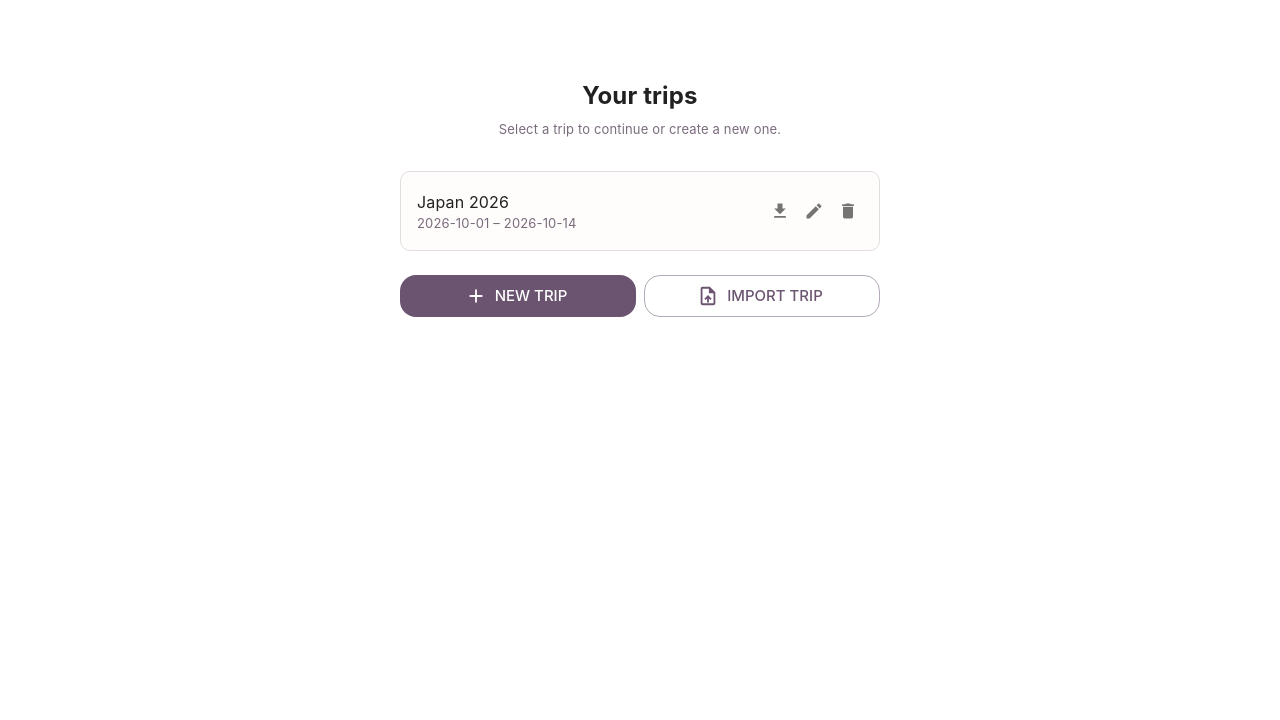
Scenario: TripSelectorScreen — rename dialog › does not save when the name is cleared
Expected: the text "Japan 2026" is shown, 417,192 -> 509,212
Click the button named "Rename Japan 2026": x=814, y=211 799,196 -> 829,226
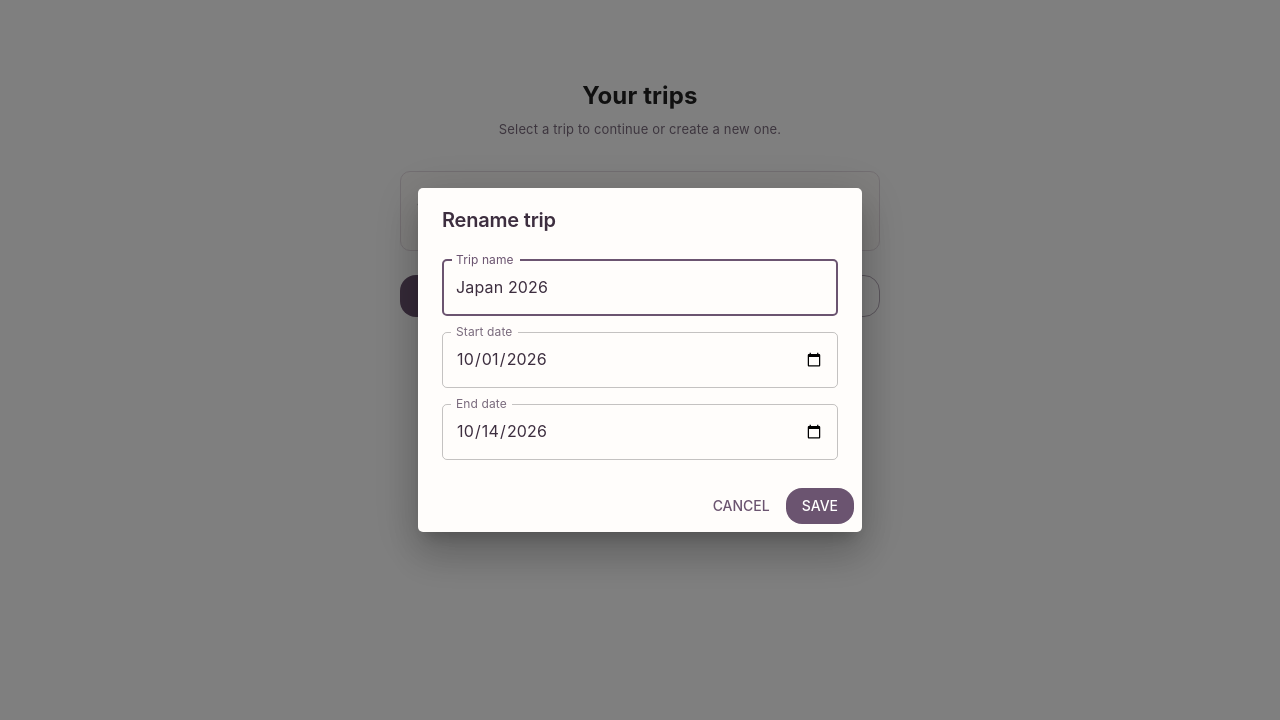
Clear the field named "rename trip name": x=640, y=288 442,260 -> 838,316
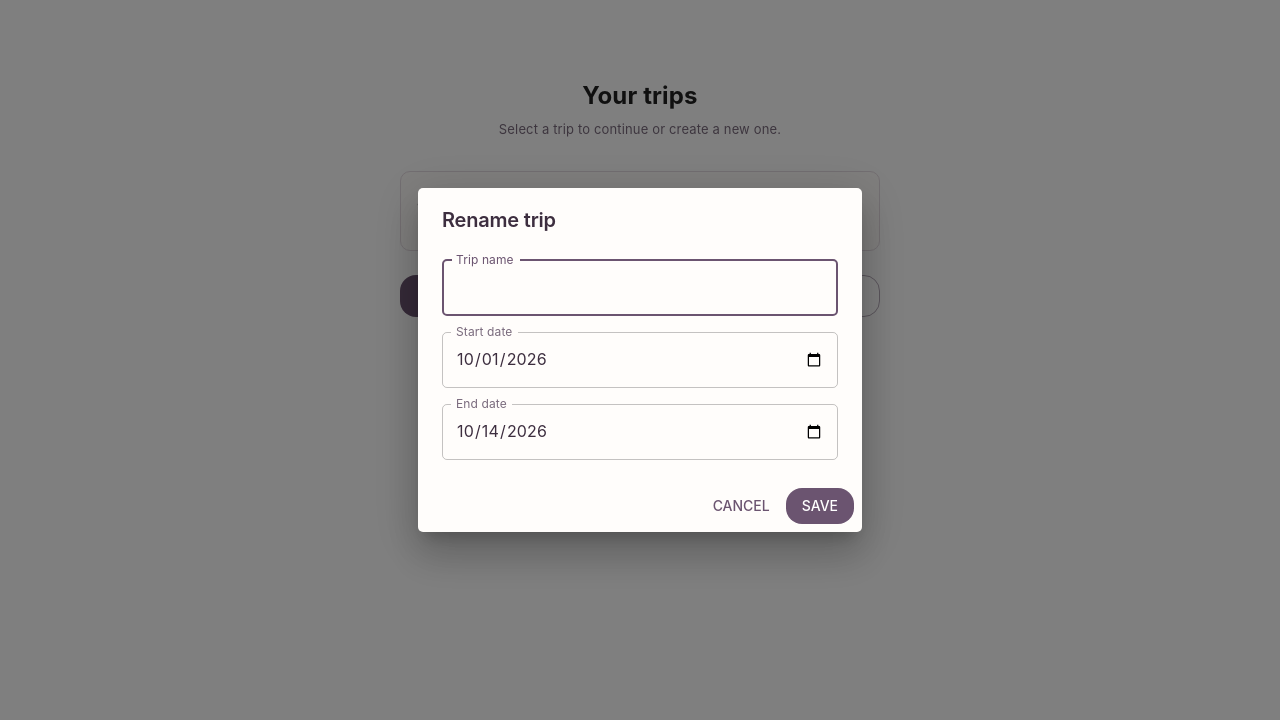
Click the button "Save": x=820, y=506 786,488 -> 854,524
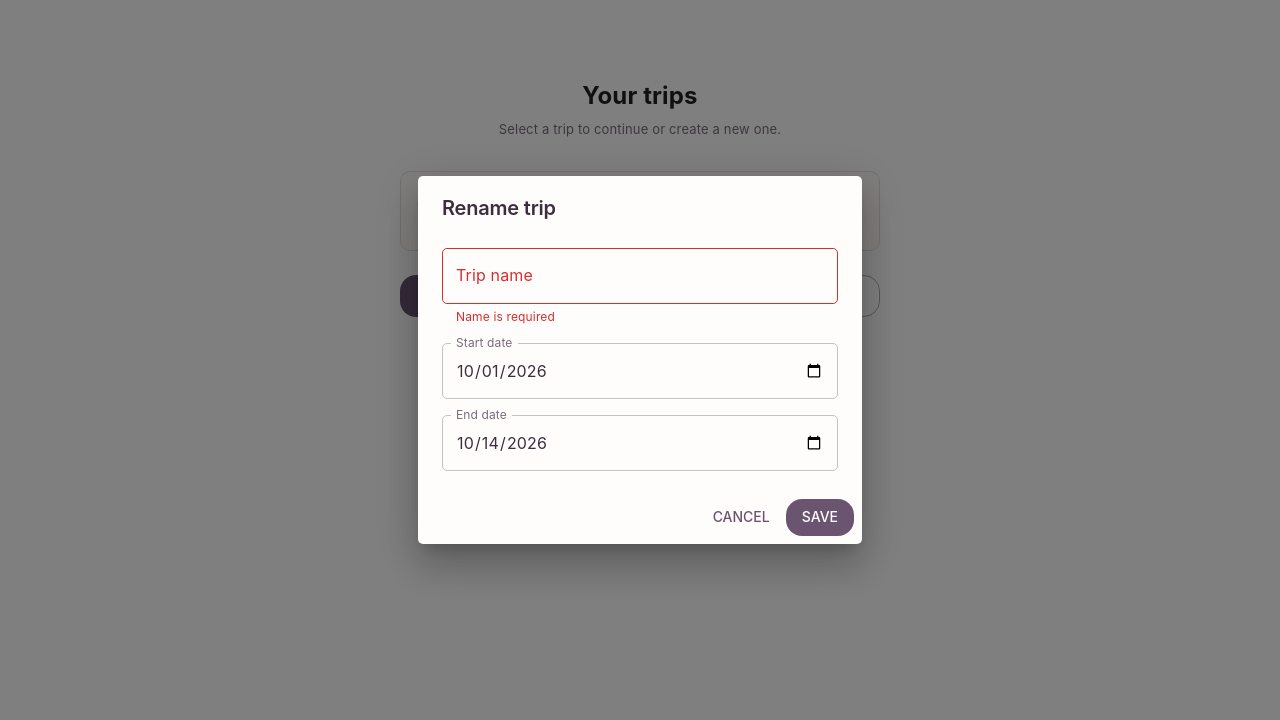
Expected: the text "Name is required" is shown, 456,309 -> 555,324
